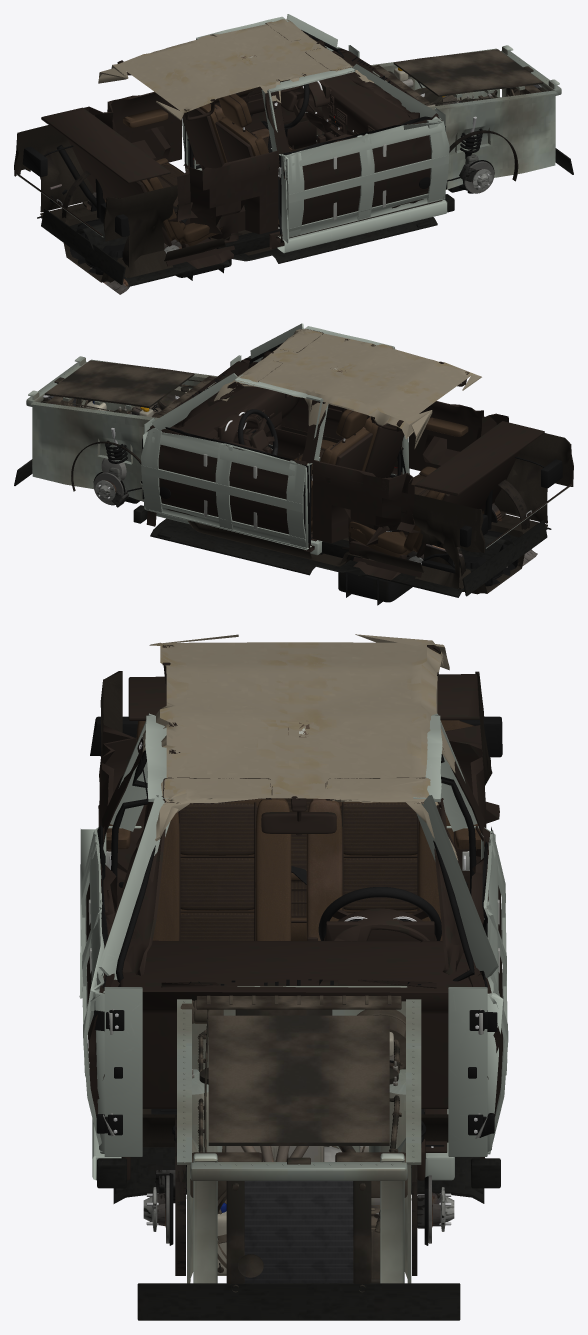
Rendered from gol-quadrado_completo.glb.
3 views of the same model, one above another, from view 1: azimuth 30°, elevation 25°; view 2: azimuth 150°, elevation 25°; view 3: azimuth 270°, elevation 25° (orthographic). The views are drawn at different scales.
Visible parts, largest first — view 1: interior_forro_teto, door_card_fr_chapa, interior_portamalas_carpete, engine_paralama_interno_dir, interior_lateral_traseira_dir, door_card_fr, interior_painel, hood_manta, interior_portamalas_tampao, interior_lateral_traseira_esq, interior_banco_traseiro, under_assoalho (+21 smaller); view 2: interior_forro_teto, interior_portamalas_carpete, door_card_fl_chapa, engine_paralama_interno_esq, interior_lateral_traseira_esq, door_card_fl, under_assoalho, hood_manta, interior_painel, interior_portamalas_tampao, interior_lateral_traseira_dir, interior_banco_traseiro (+21 smaller); view 3: interior_forro_teto, interior_painel, hood_manta, interior_banco_dianteiro_dir, engine_radiador, under_saias, interior_banco_dianteiro_esq, engine_travessa, jamb_fl_colunas, jamb_fr_colunas, engine_corta_fogo, door_card_fr_chapa (+24 smaller).
Part boxes in pixels (x1,y1,x2,y2): interior_forro_teto: (98,21,373,120); door_card_fr_chapa: (278,116,449,243); interior_portamalas_carpete: (14,125,177,282); engine_paralama_interno_dir: (429,90,557,189); interior_lateral_traseira_dir: (168,151,279,268); door_card_fr: (283,115,442,224); interior_painel: (289,51,438,136); hood_manta: (393,49,543,97); interior_portamalas_tampao: (41,107,170,183); interior_lateral_traseira_esq: (84,91,181,162); interior_banco_traseiro: (68,139,238,248); under_assoalho: (37,216,437,286); interior_forro_teto: (214,329,481,448); interior_portamalas_carpete: (412,433,573,594); door_card_fl_chapa: (141,428,312,550); engine_paralama_interno_esq: (30,401,158,501); interior_lateral_traseira_esq: (312,460,420,580); door_card_fl: (147,426,306,534); under_assoalho: (150,518,551,597); hood_manta: (44,360,194,409); interior_painel: (150,361,299,442); interior_portamalas_tampao: (415,421,544,495); interior_lateral_traseira_dir: (409,401,508,470); interior_banco_traseiro: (348,451,519,559); interior_forro_teto: (142,634,457,860); interior_painel: (120,908,472,1108); hood_manta: (208,1015,389,1145); interior_banco_dianteiro_dir: (144,798,291,940); engine_radiador: (226,1181,371,1292); under_saias: (97,1158,500,1320); interior_banco_dianteiro_esq: (306,798,454,940); engine_travessa: (190,1146,407,1283); jamb_fl_colunas: (413,713,498,1156); jamb_fr_colunas: (98,713,172,1156); engine_corta_fogo: (180,986,407,1152); door_card_fr_chapa: (79,827,115,1153).
Size of what is drawn, in the model's own units: 3.65 by 1.42 by 1.42.
53 materials, 53 textured.
